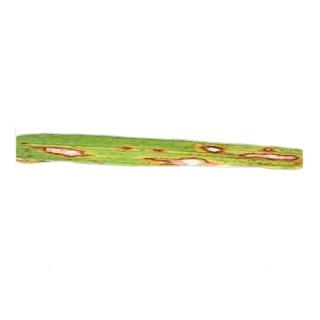Blast: (23, 138, 80, 166), (242, 149, 298, 168), (160, 155, 223, 169), (196, 140, 232, 152)
